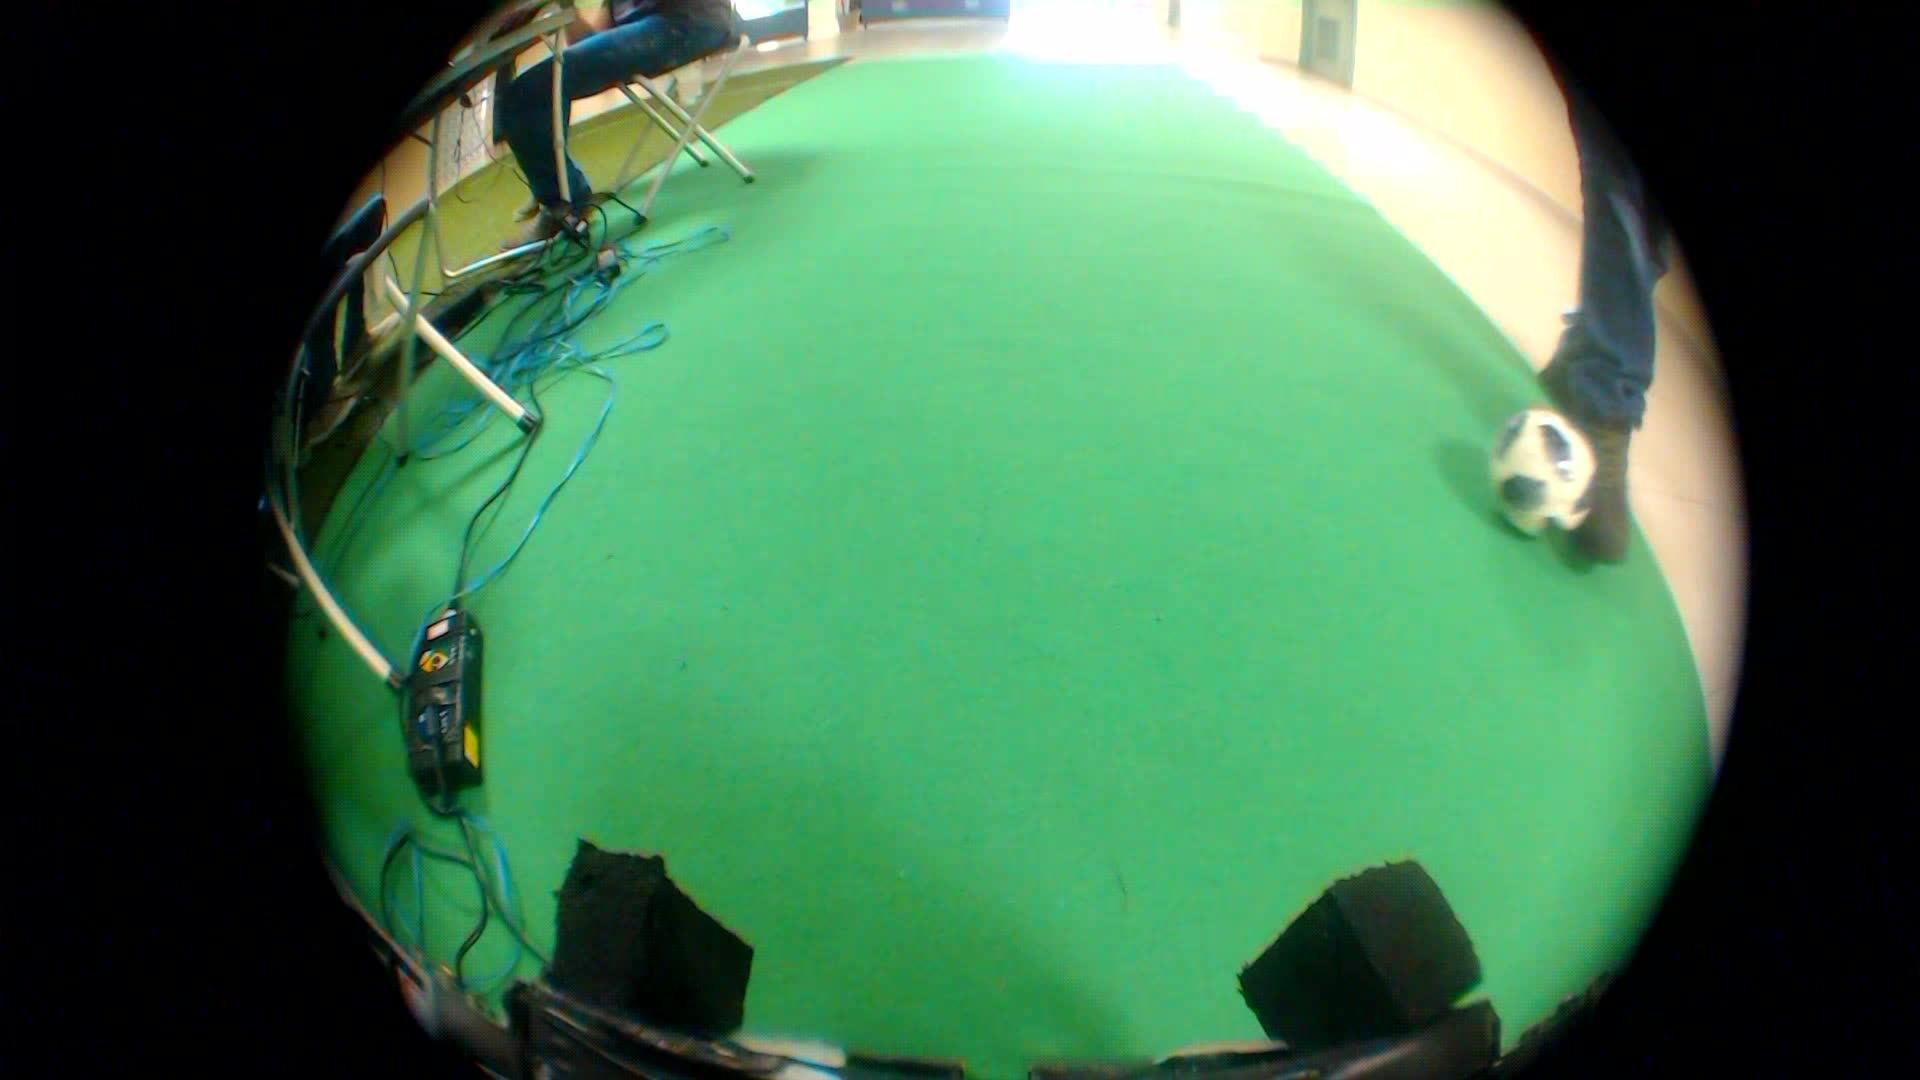ball: (1468, 400, 1607, 550)
